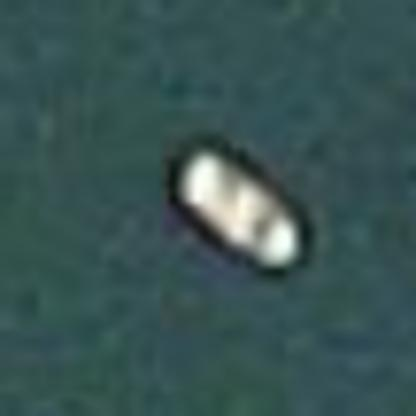ship: (145, 122, 322, 282)
